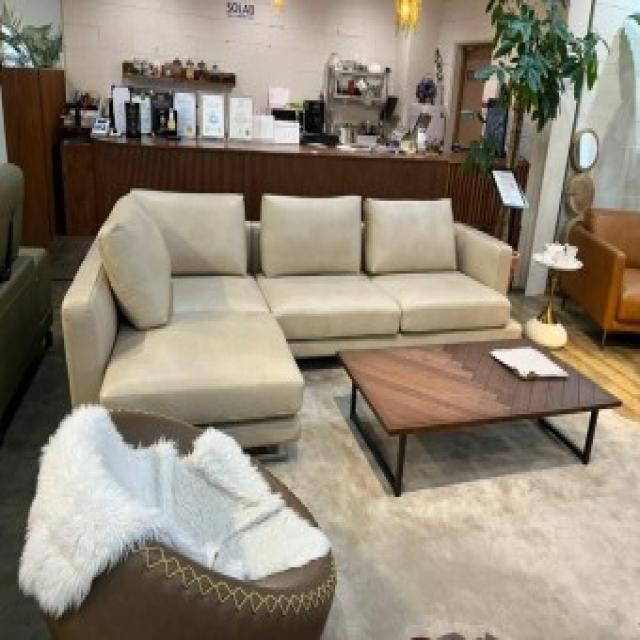Sofa: (61, 176, 303, 404), (308, 181, 516, 334), (580, 209, 640, 338)
Table: (331, 339, 624, 502)
